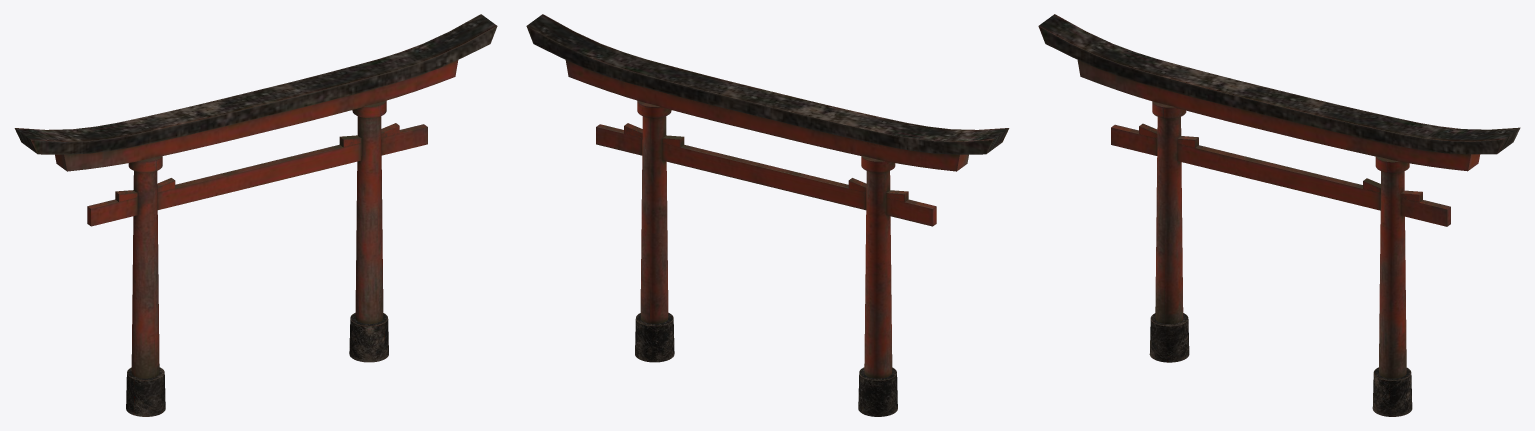
File: torii.glb
3 renders of one model, left to right at view 1: azimuth 30°, elevation 25°; view 2: azimuth 150°, elevation 25°; view 3: azimuth 330°, elevation 25°, orthographic.
Visible parts, largest first — view 1: Torii; view 2: Torii; view 3: Torii.
Boxes of the visible parts, <box> form: Torii: <box>14,14,497,416</box>; Torii: <box>526,14,1009,416</box>; Torii: <box>1038,14,1520,416</box>.
Size of the model in its own units: 7.96 by 4.97 by 0.5864.
Materials: 1 (1 with a texture image).
